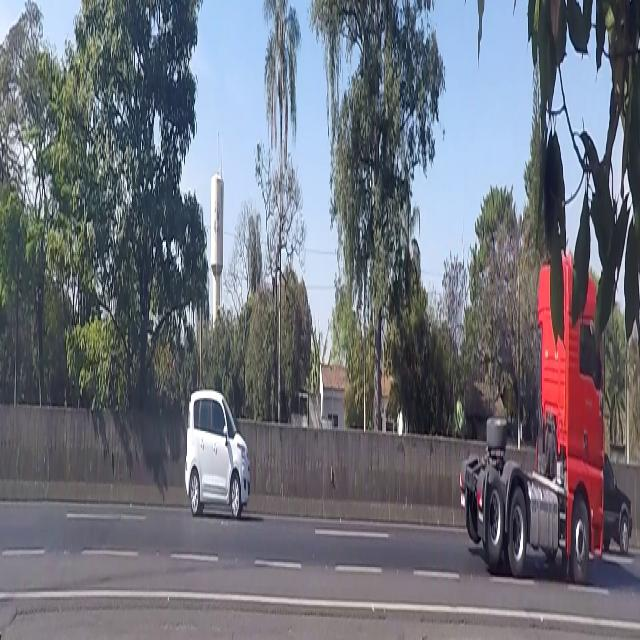-axle: (569, 488, 591, 602), (482, 472, 502, 574), (506, 469, 526, 571)
